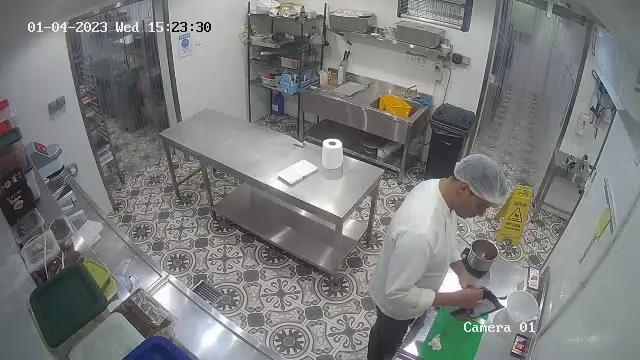no_apron: (396, 201, 460, 325)
